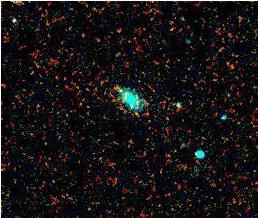star: (105, 76, 135, 106)
